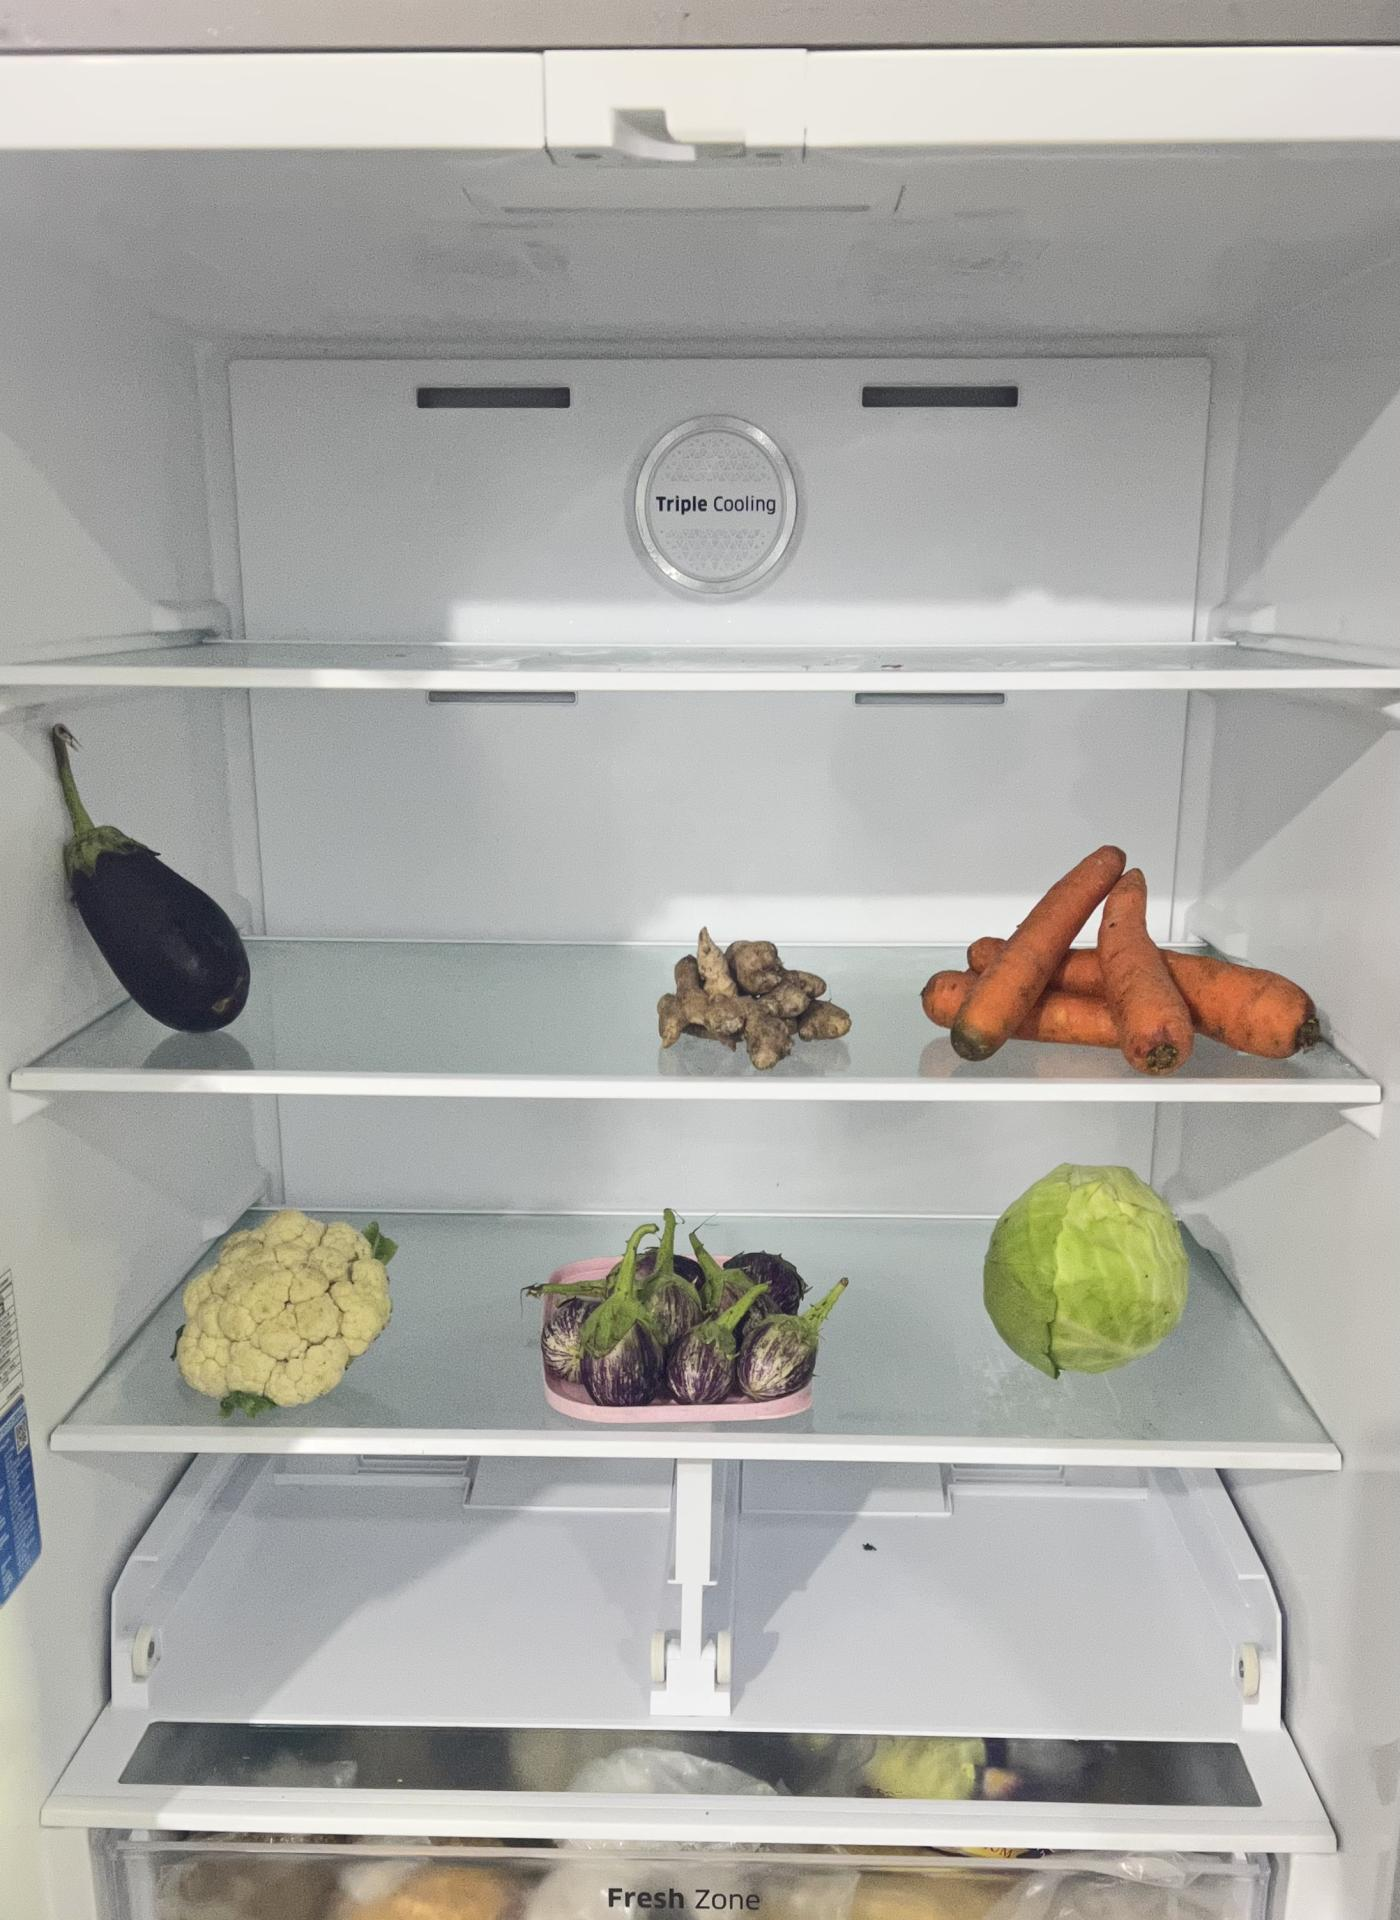brinjal: (532, 1218, 823, 1412), (52, 778, 247, 1038)
cabbage: (987, 1172, 1193, 1380)
carrots: (923, 851, 1328, 1070)
cauliflower: (177, 1207, 395, 1403)
ginger: (656, 932, 853, 1067)
